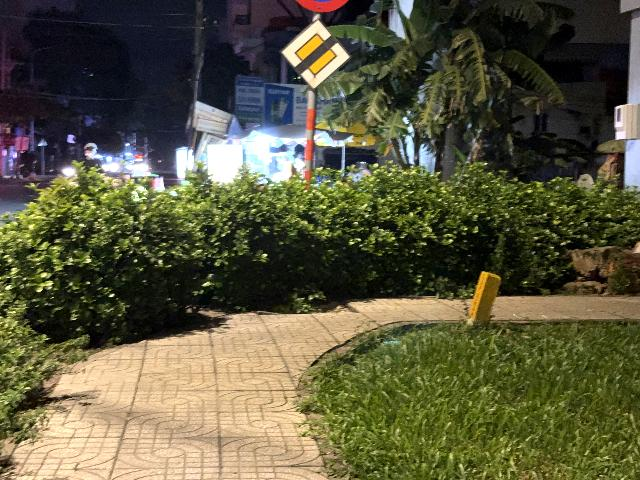het-duong-uu-tien: (279, 19, 353, 91)
